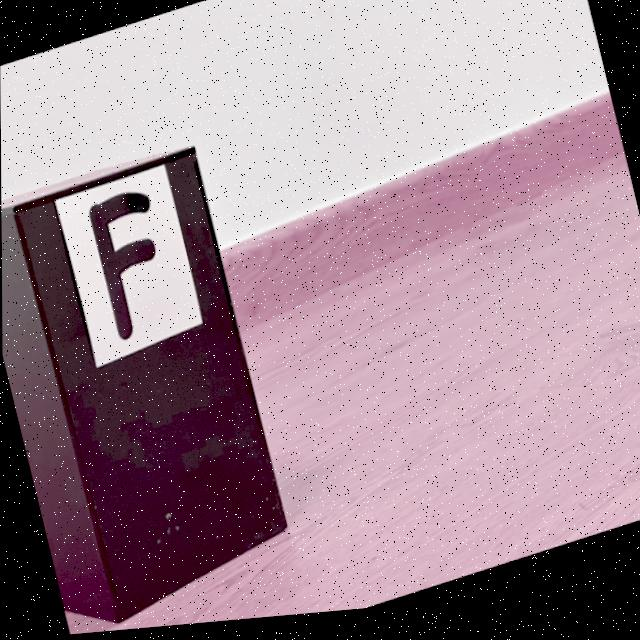F: (88, 194, 155, 342)
